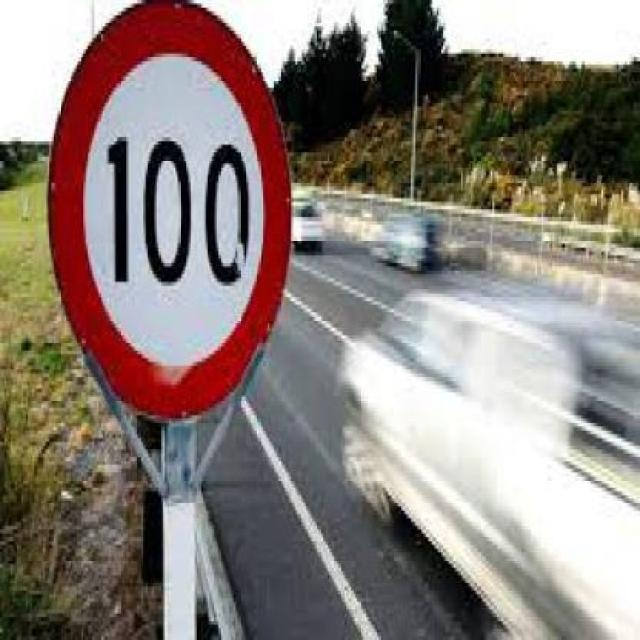forb_speed_over_100: (51, 1, 287, 410)
